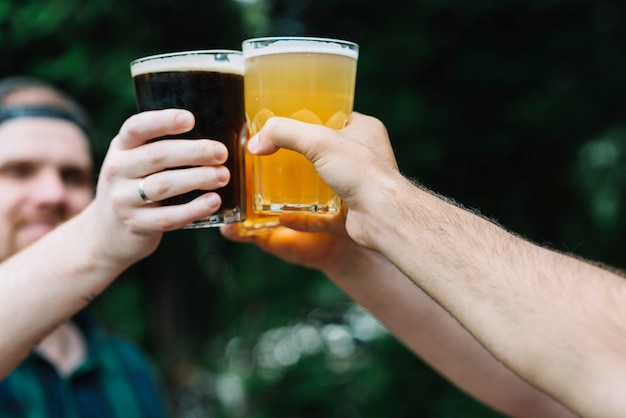alcohol: (129, 47, 255, 232), (237, 38, 359, 219)
